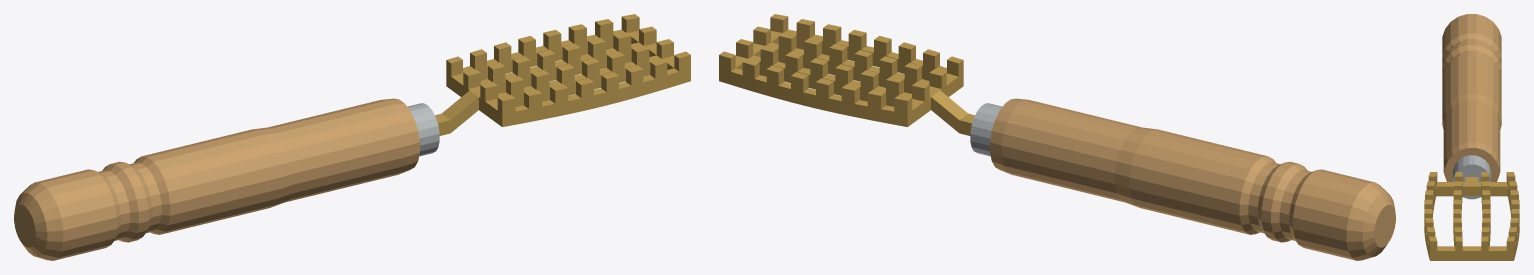
3 renders of one model, left to right at view 1: azimuth 30°, elevation 25°; view 2: azimuth 150°, elevation 25°; view 3: azimuth 270°, elevation 25°, orthographic. The views are drawn at different scales.
Visible parts, largest first — view 1: 01_Wood_handle_two_annular_grooves, 04_Integral_four_rail_head_three_through_slots_and_short_tee, 02_Metal_collar, 03_Bent_metal_neck; view 2: 01_Wood_handle_two_annular_grooves, 04_Integral_four_rail_head_three_through_slots_and_short_tee, 02_Metal_collar, 03_Bent_metal_neck; view 3: 01_Wood_handle_two_annular_grooves, 04_Integral_four_rail_head_three_through_slots_and_short_tee, 02_Metal_collar, 03_Bent_metal_neck.
Boxes of the visible parts, <box> form: 01_Wood_handle_two_annular_grooves: <box>14,98,419,260</box>; 04_Integral_four_rail_head_three_through_slots_and_short_tee: <box>446,14,690,126</box>; 02_Metal_collar: <box>407,103,439,156</box>; 03_Bent_metal_neck: <box>435,90,478,135</box>; 01_Wood_handle_two_annular_grooves: <box>990,98,1395,260</box>; 04_Integral_four_rail_head_three_through_slots_and_short_tee: <box>719,14,963,126</box>; 02_Metal_collar: <box>970,103,1002,156</box>; 03_Bent_metal_neck: <box>931,90,974,135</box>; 01_Wood_handle_two_annular_grooves: <box>1442,14,1501,181</box>; 04_Integral_four_rail_head_three_through_slots_and_short_tee: <box>1424,172,1519,260</box>; 02_Metal_collar: <box>1453,155,1490,199</box>; 03_Bent_metal_neck: <box>1465,177,1478,181</box>.
Bounding box in the file's own units: 0.203 × 0.022 × 0.035.
